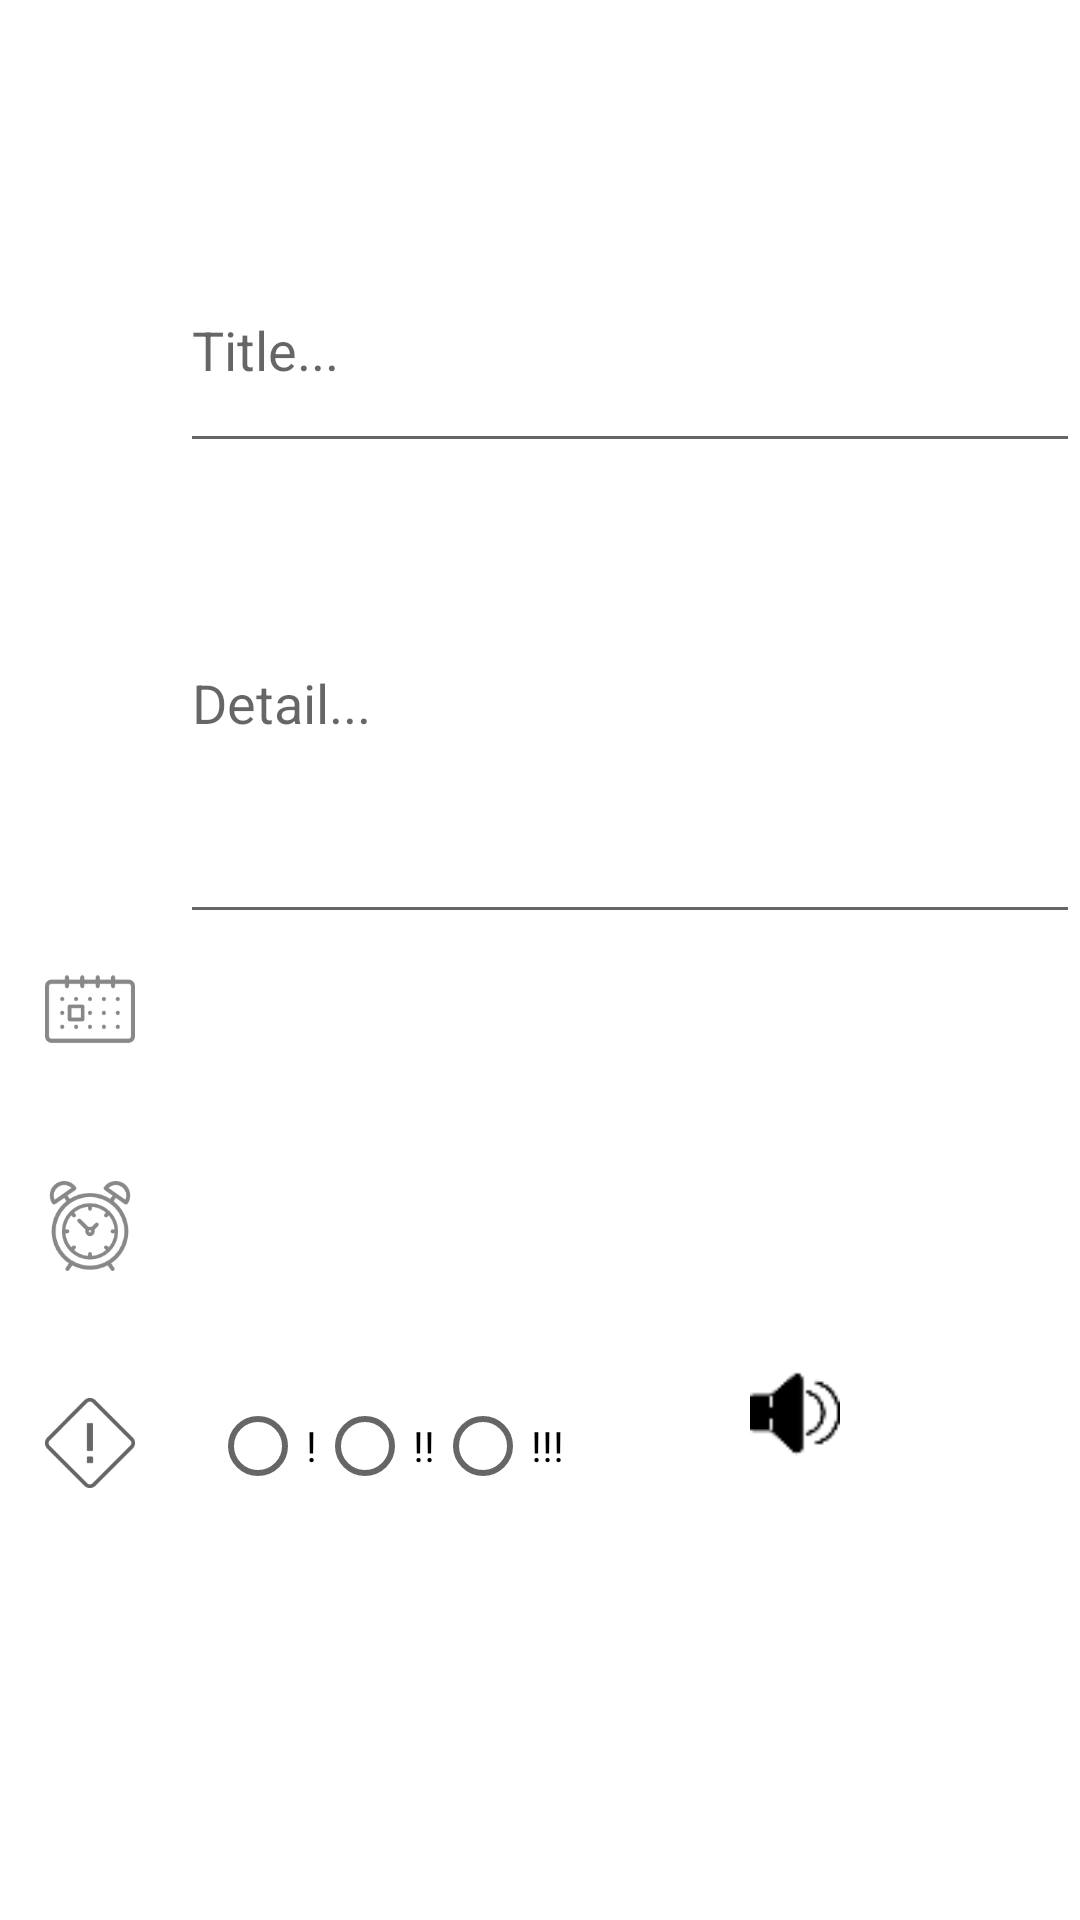

Icon click points for this 1080×1920 phone screenshot, format [x,y]:
alarm clock: [90,1226]
calendar: [90,1009]
on notif: [795,1413]
priority: [90,1443]
